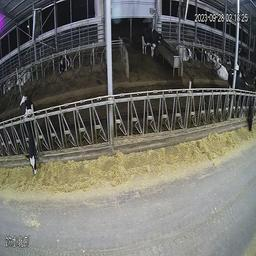cow: (17, 95, 43, 181), (227, 70, 253, 137), (139, 25, 166, 65), (211, 51, 230, 83), (56, 52, 72, 81), (177, 35, 193, 64)
